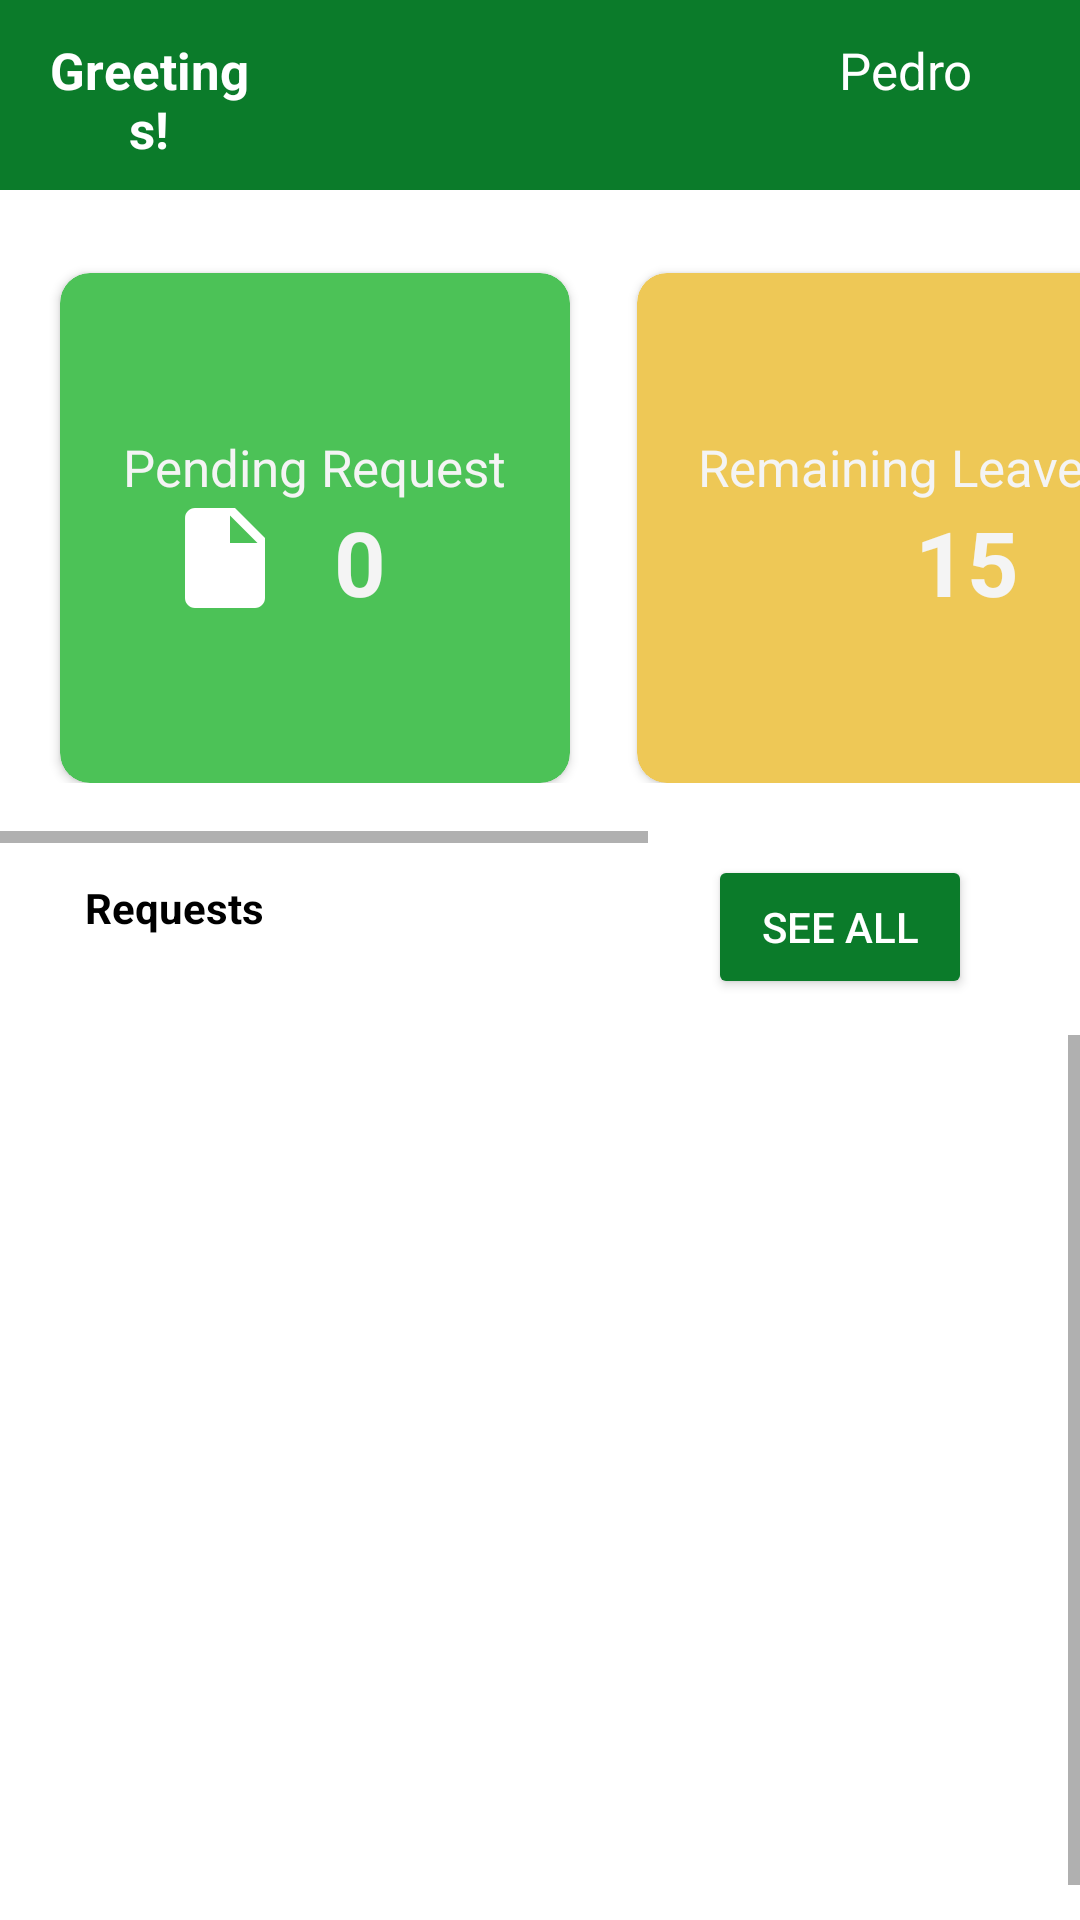

Where icons sit on this 1080px×1920px app screen, as (x1, y1, x2, y2):
insert drive file: (185, 508, 265, 608)
